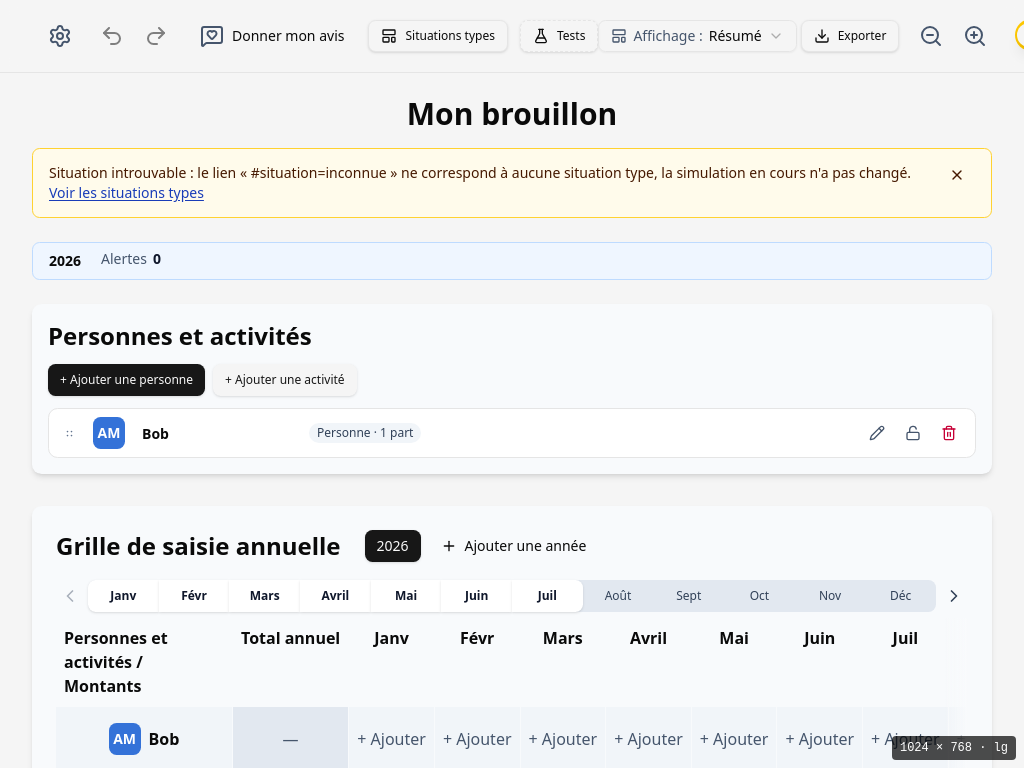
Test: App : adresse d'une situation type (#situation=…) › pour un identifiant inconnu, ne change rien et le dit discrètement, avec l'accès aux situations types
Check: the text "Situation introuvable" shows "Situation introuvable : le lien « #situation=inconnue » ne correspond à aucune situation type, la simulation en cours n'a pas changé.", box [49,157,931,209]
Check: the text "Situation introuvable" is shown, box [49,163,325,182]
Click the button "Voir les situations types" at (126, 193), box [49,183,204,203]
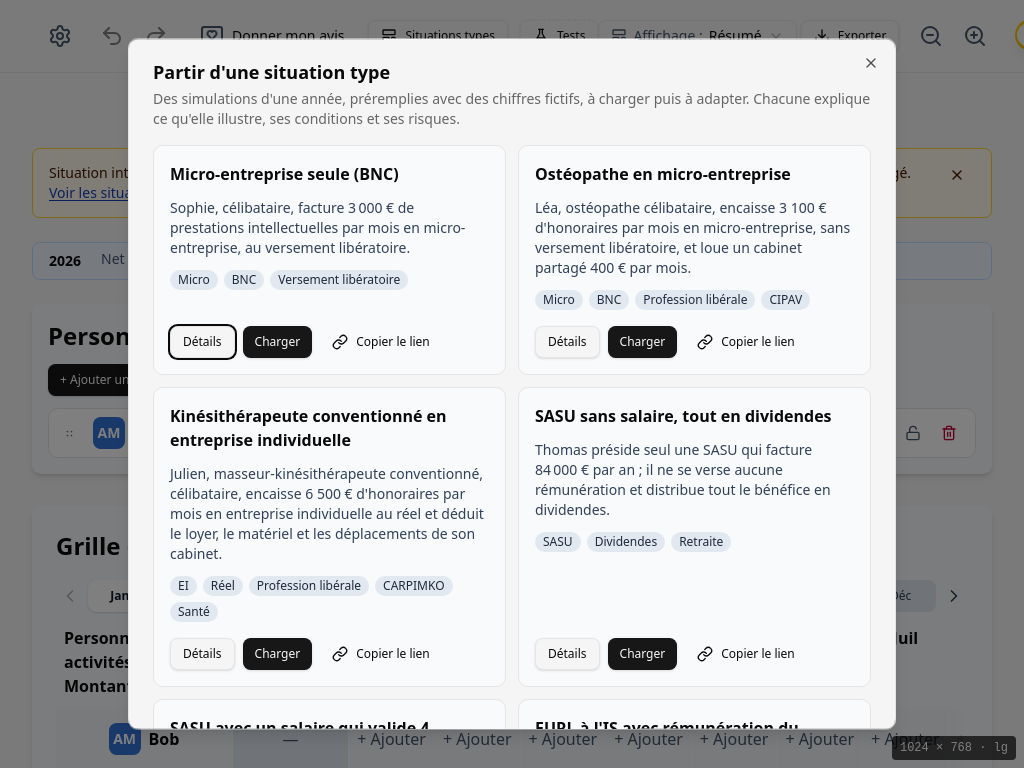
Check: the dialog "Partir d'une situation type" is shown
Press Escape
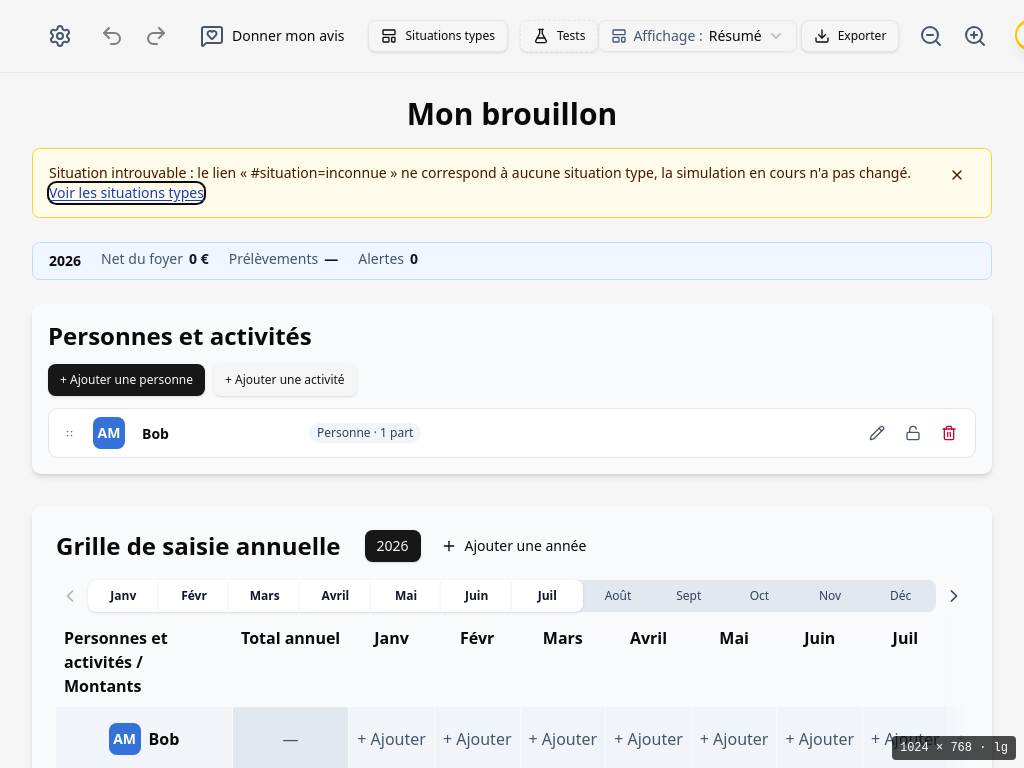
Click the button named "Fermer le message" at (957, 175), box [939,157,975,193]
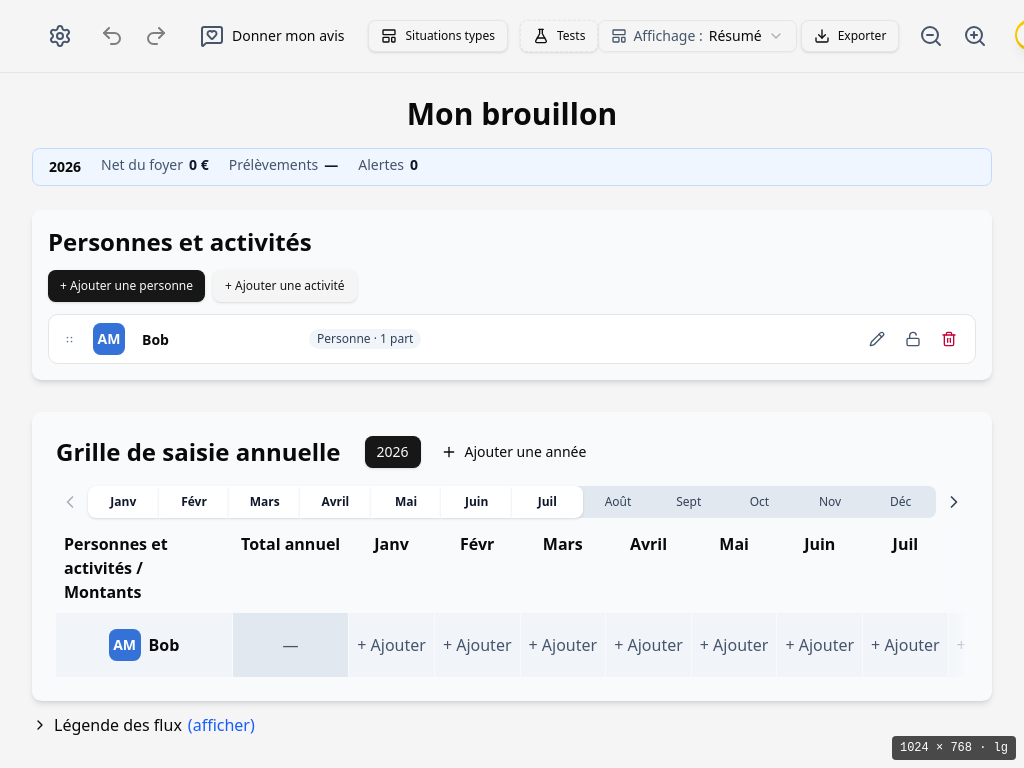
Check: the text "Situation introuvable" is gone
